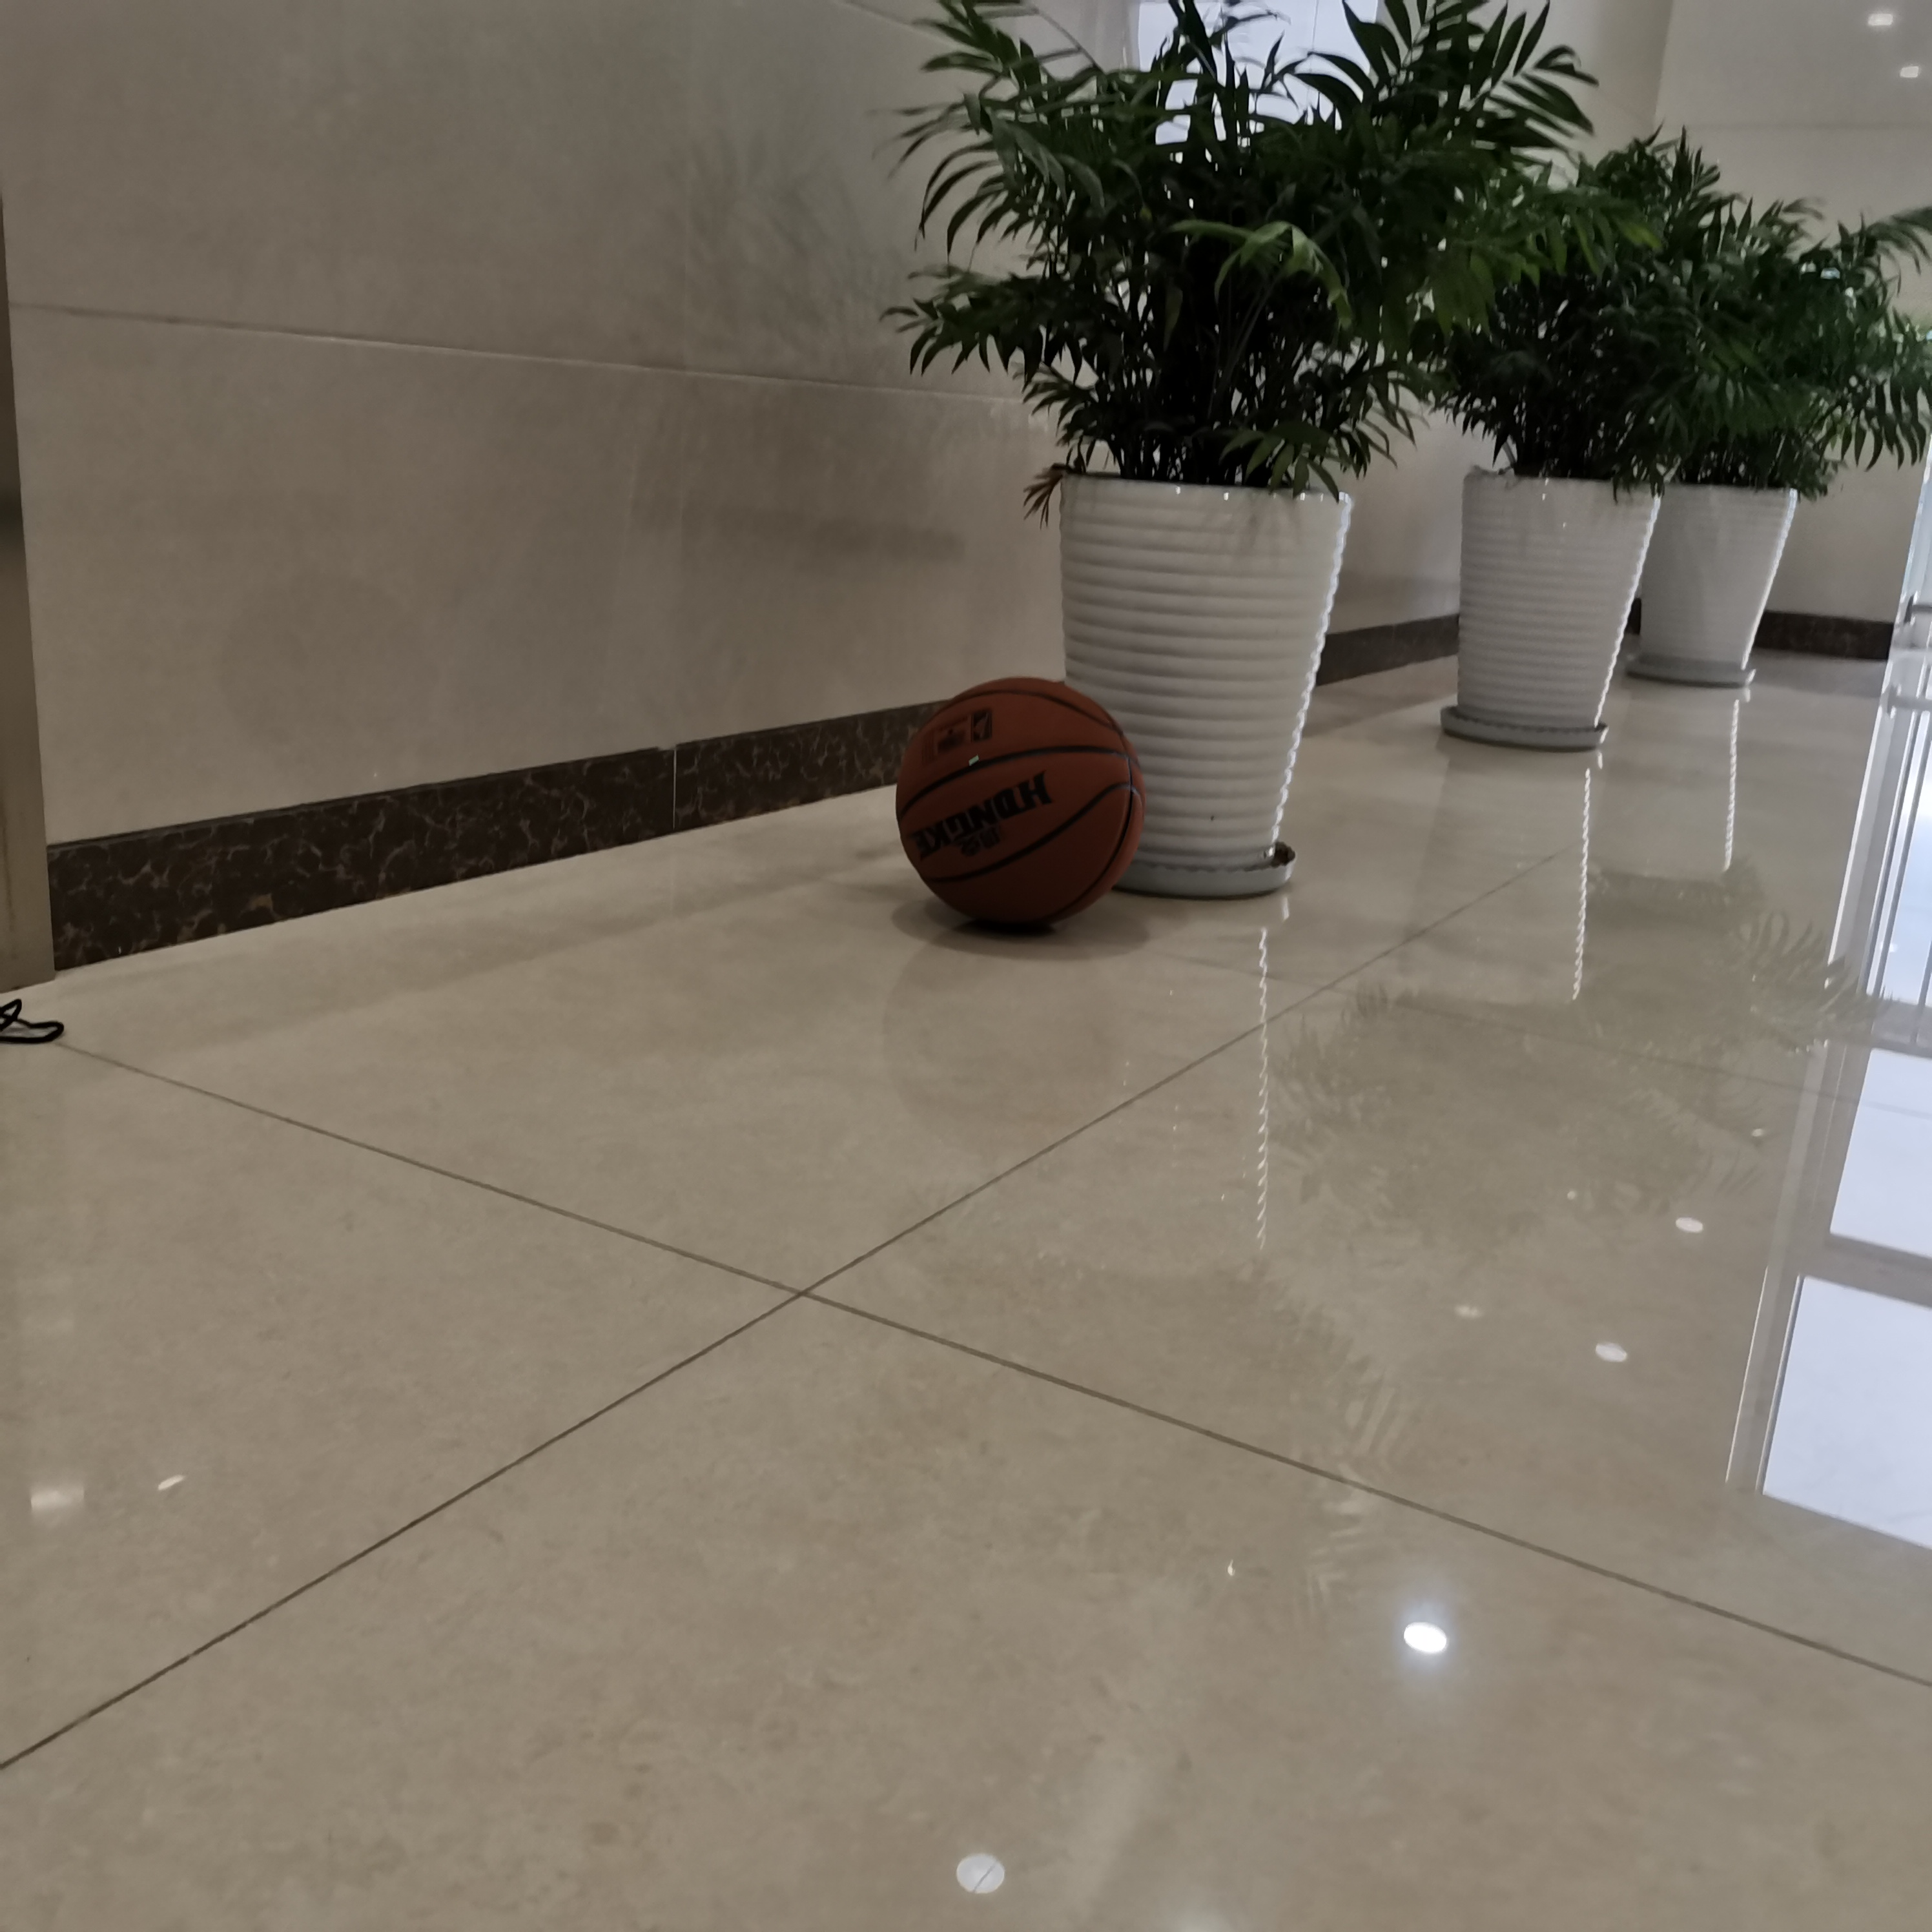basketball: (897, 678, 1143, 929)
